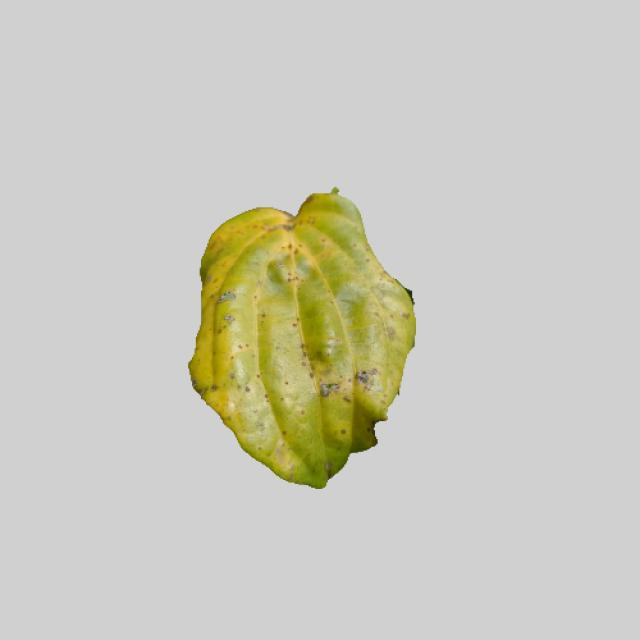yellow-mottle-virus: (178, 183, 417, 484)
